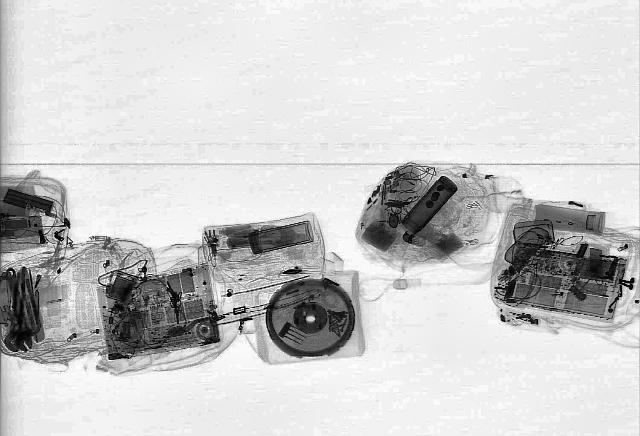Wrench: (1, 268, 32, 350)
